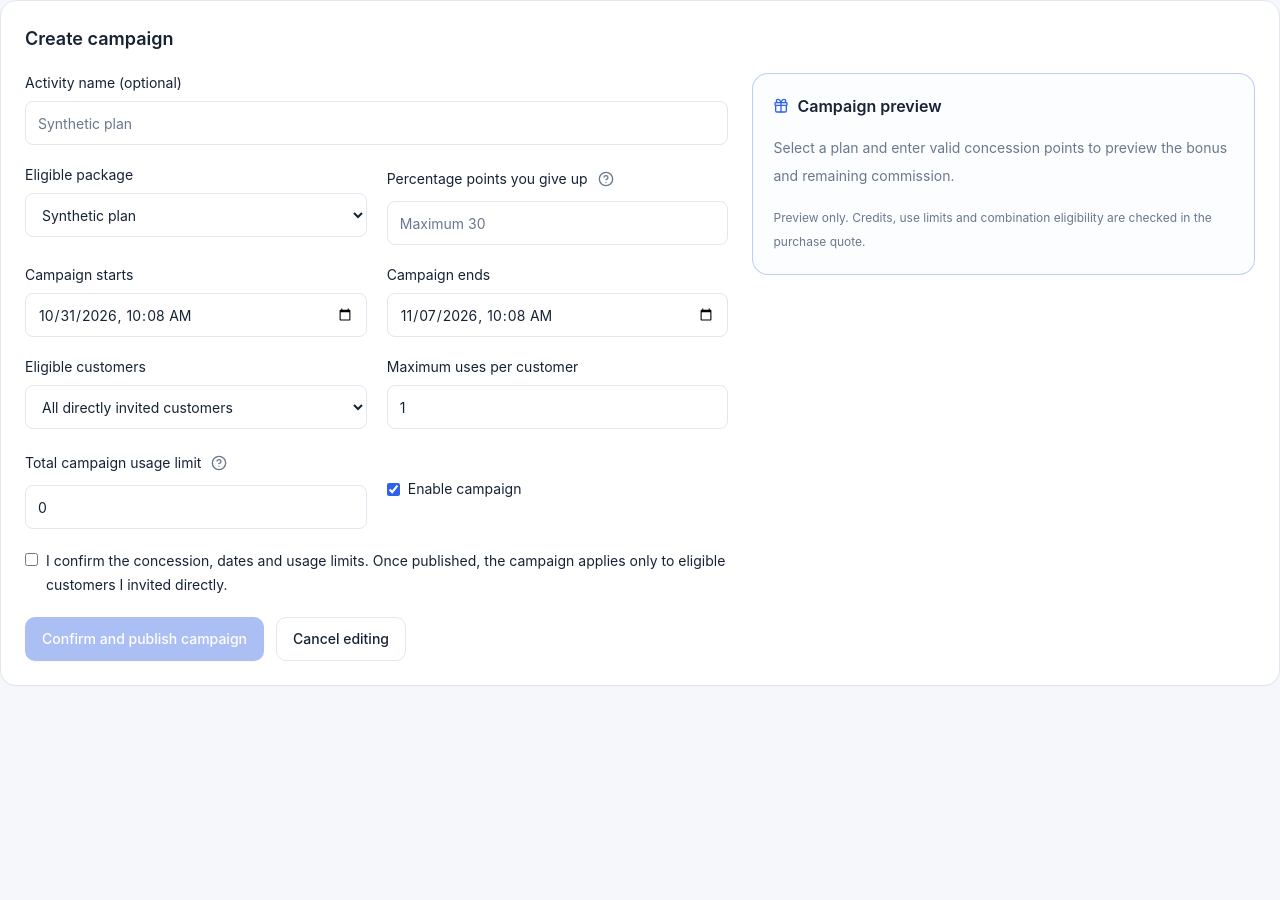
it: localizes the live campaign preview in en while preserving authored names and precise terms
Type "10.0000000000000001" into the field named "Percentage points you give up". click: [558, 223]
box: [387,201,728,245]
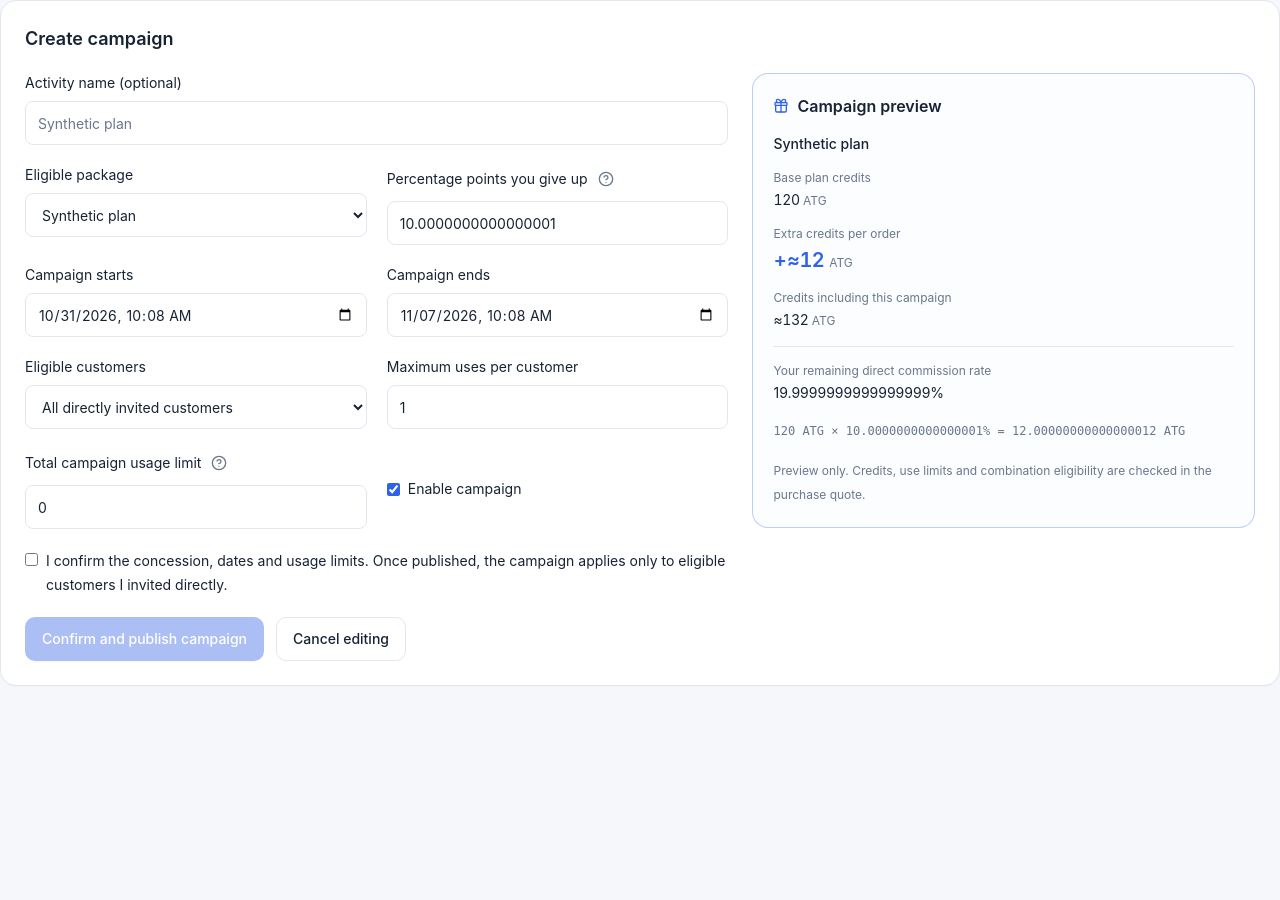
Result: the element labelled "Campaign preview" shows "Synthetic plan" at [774,135,869,152]
Result: the text "Your remaining direct commission rate" is shown at [774,363,991,378]
Result: the element labelled "Campaign preview" shows "19.9999999999999999%" at [752,73,1255,528]
